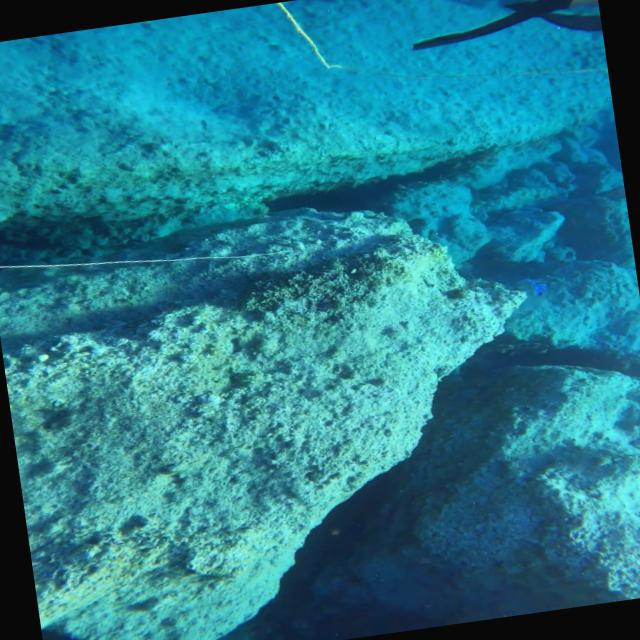Balon Baligi: (518, 276, 550, 298)
